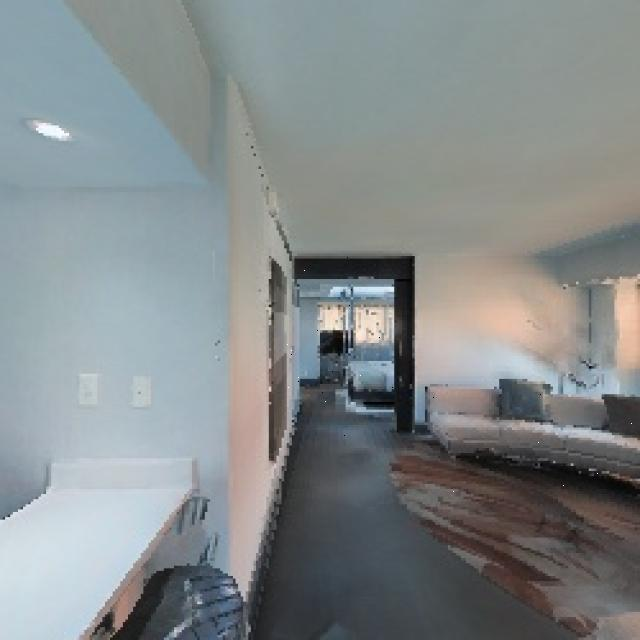door-frame: (283, 257, 412, 441)
sofa: (417, 376, 640, 494)
